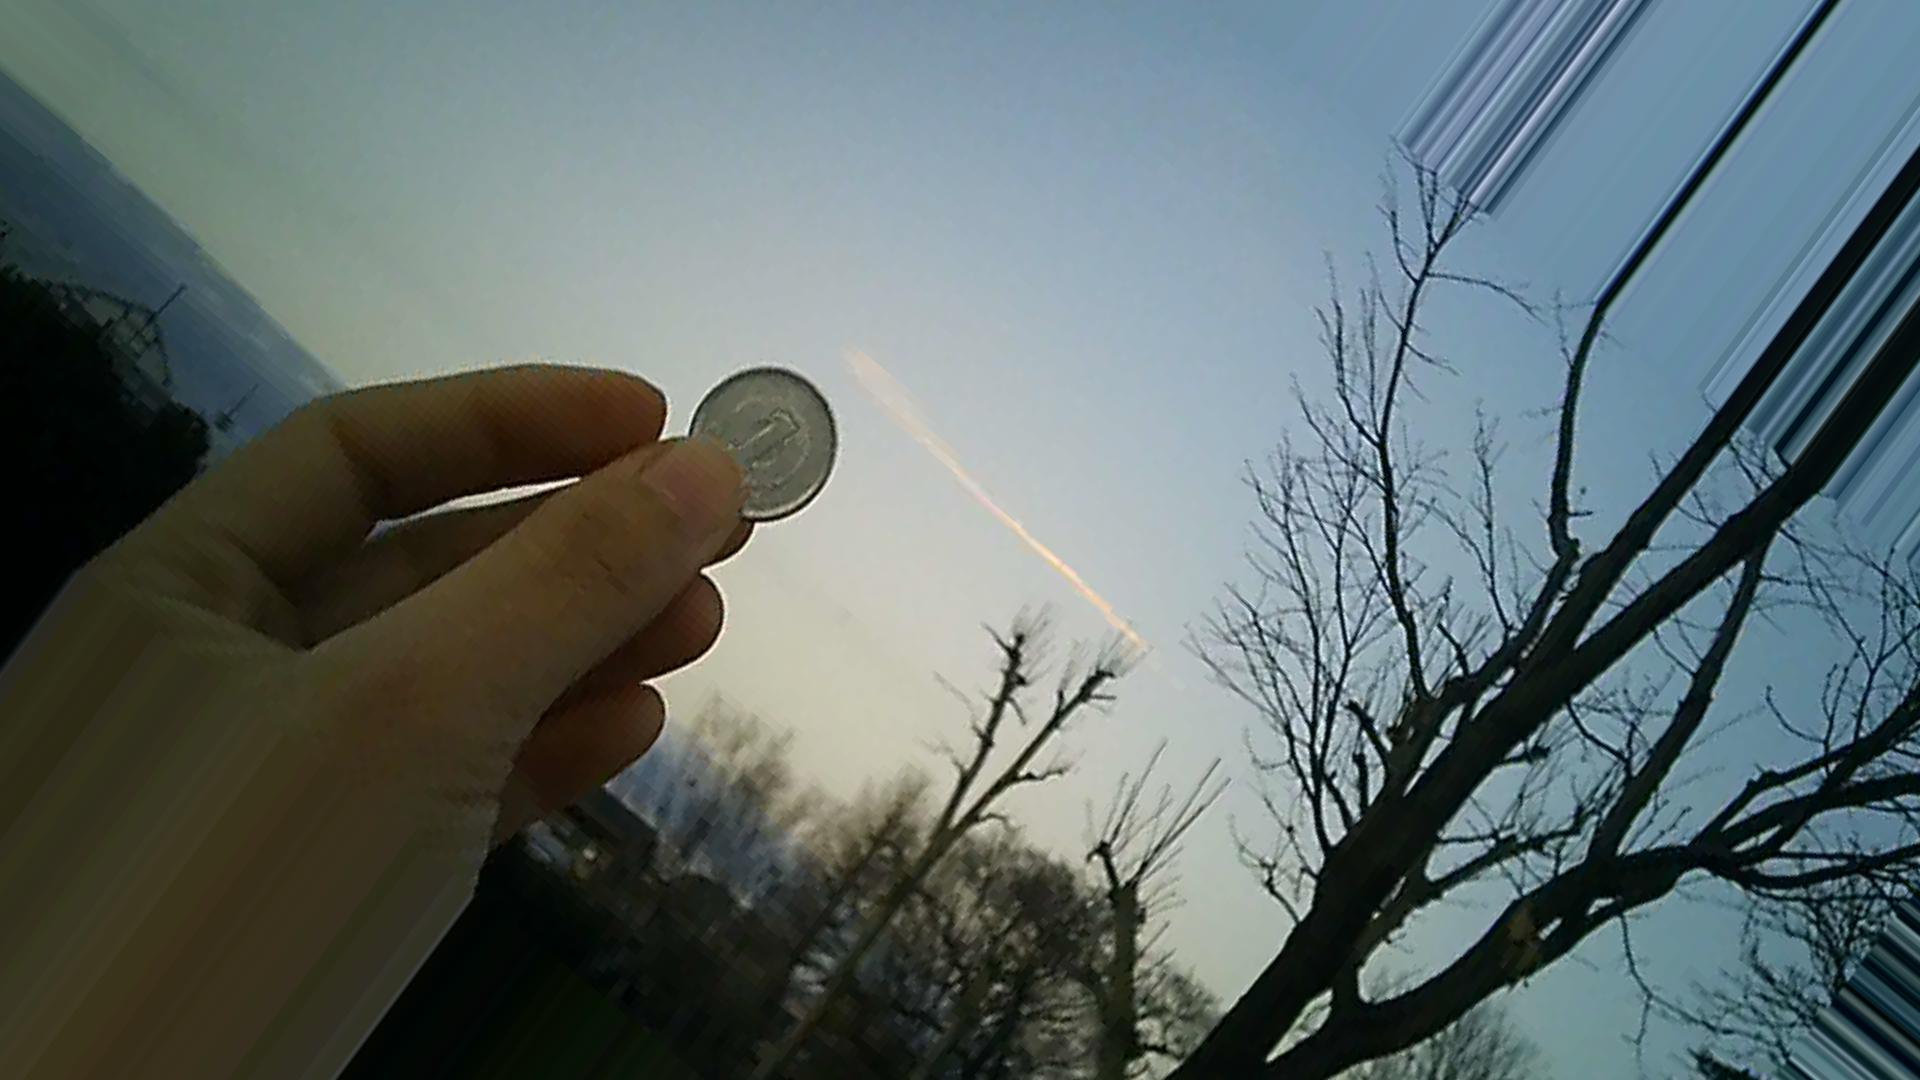1 Yen: (691, 353, 832, 530)
